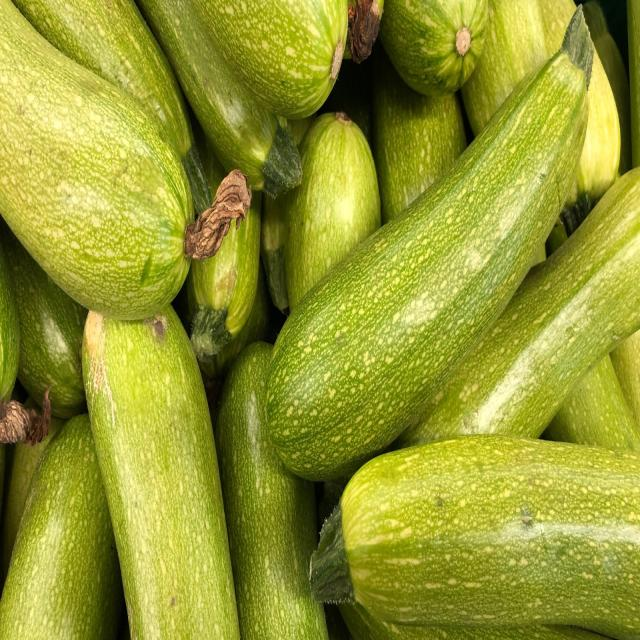Zucchini: (88, 287, 242, 640)
